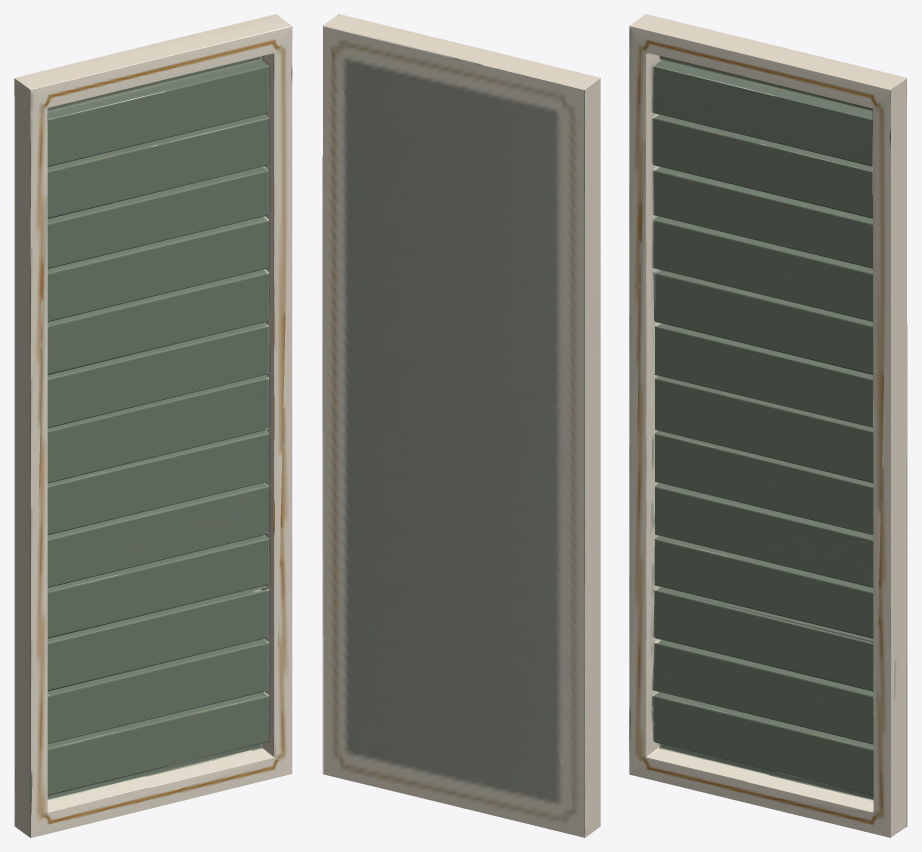
The model's file is item12.glb.
The picture shows the model from 3 angles, left to right: view 1: azimuth 30°, elevation 25°; view 2: azimuth 150°, elevation 25°; view 3: azimuth 330°, elevation 25°; orthographic projection.
Visible parts, largest first — view 1: Mesh_0; view 2: Mesh_0; view 3: Mesh_0.
Part boxes in pixels (x1,y1,x2,y2): Mesh_0: (14, 14, 293, 837); Mesh_0: (322, 14, 600, 837); Mesh_0: (629, 14, 907, 837).
Size of the model in its own units: 0.3676 by 1 by 0.0401.
1 material, 1 textured.
